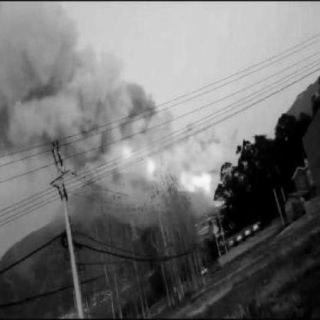Fire: (111, 123, 235, 207)
